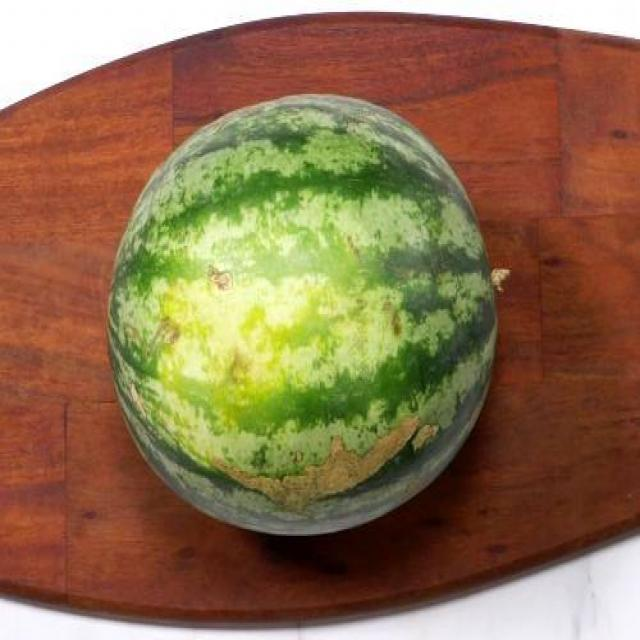watermelon: (105, 96, 503, 541)
